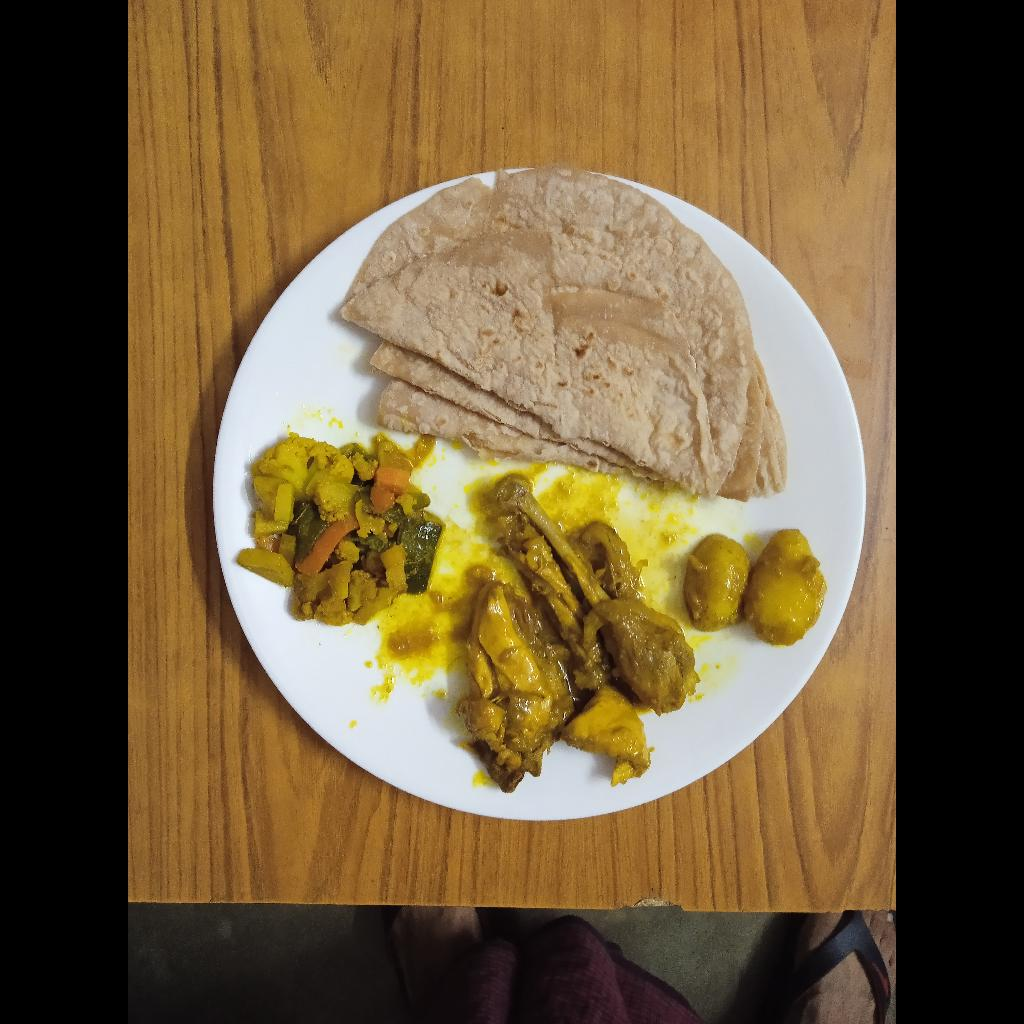chicken: (455, 472, 699, 796)
potato: (683, 527, 826, 646)
ruti: (340, 165, 789, 505)
vegetable: (238, 431, 445, 625)
